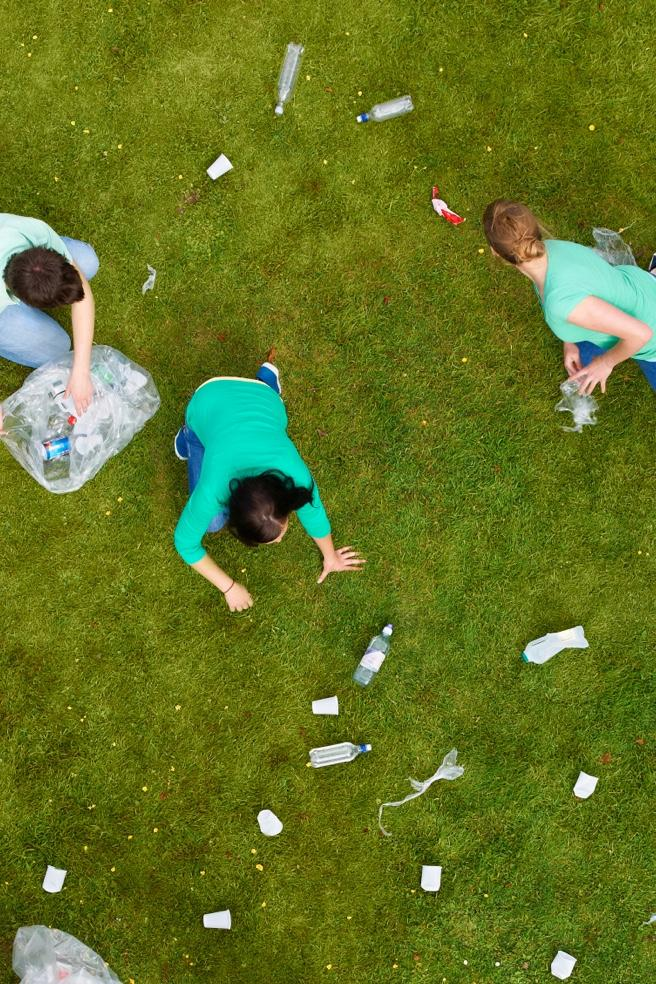bottle: (22, 384, 95, 497), (341, 74, 435, 144), (296, 721, 385, 794), (339, 604, 403, 693), (511, 611, 597, 677), (242, 18, 293, 121)
